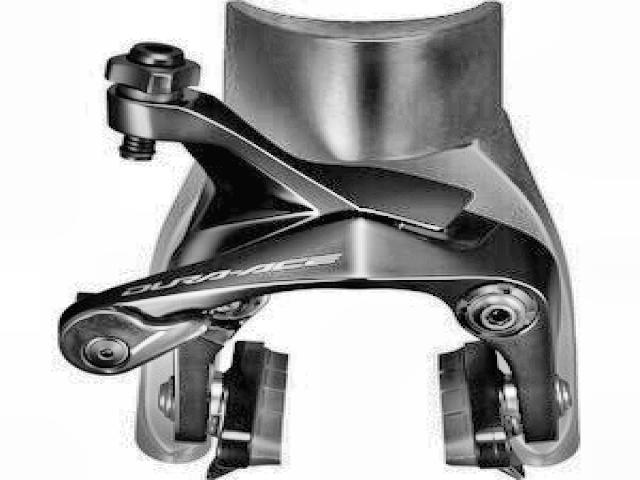rim_brake: (56, 39, 572, 480)
